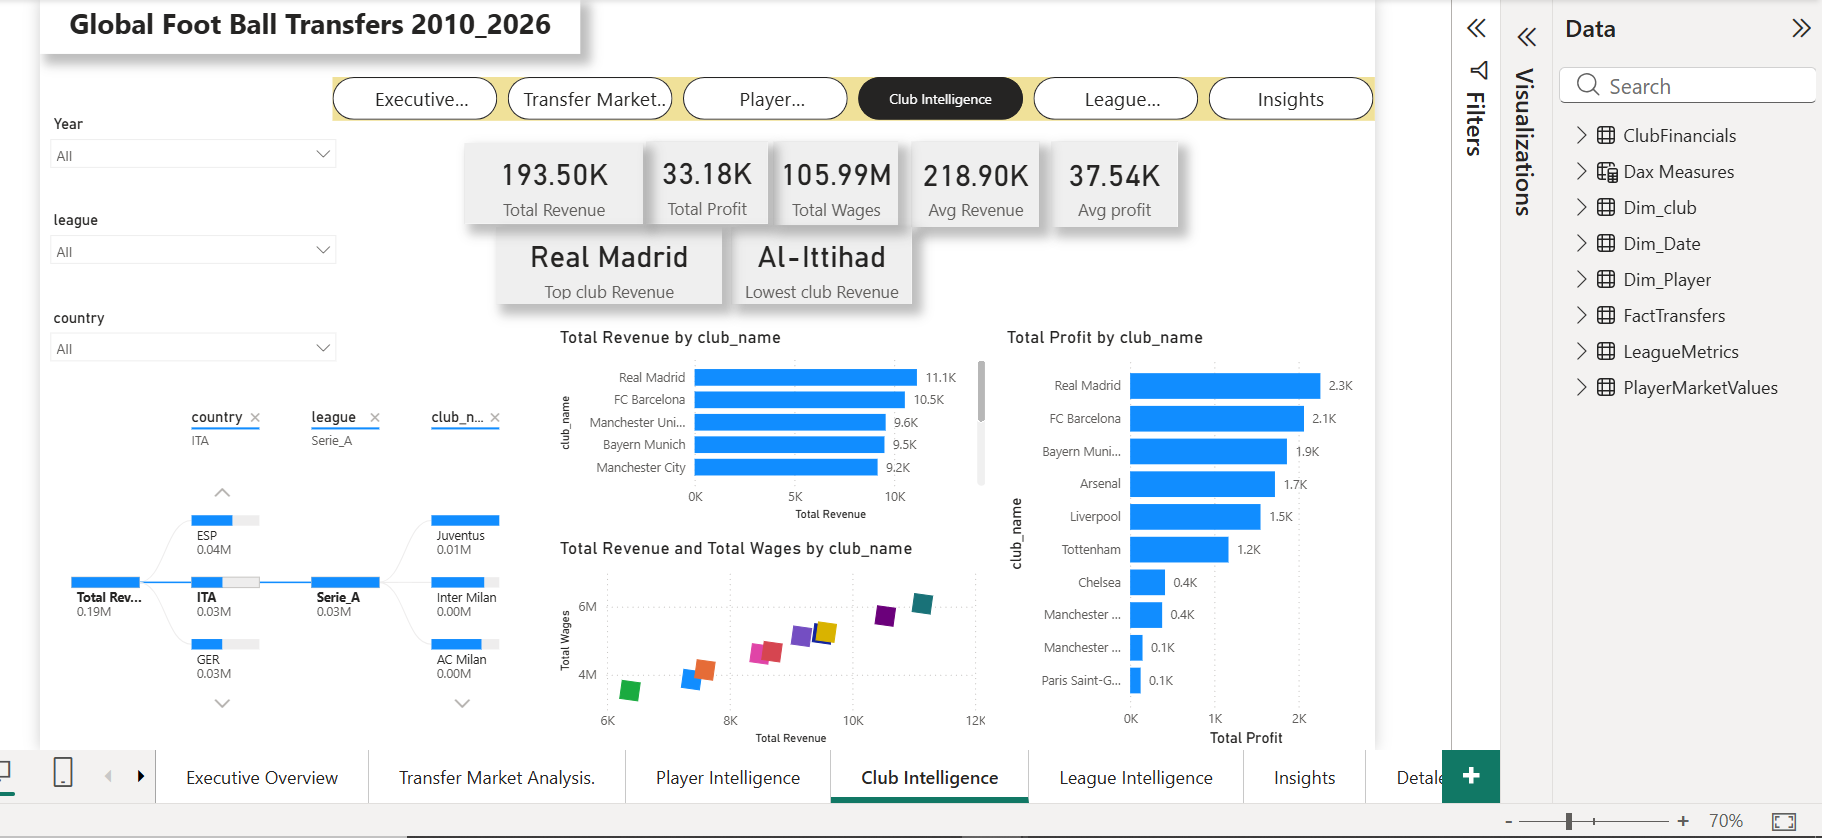

The page's visual inventory and layout, read from the dashboard file:
{"tool":"powerbi","page":{"name":"Club Intelligence","canvas":[1280,720],"ordinal":3},"visuals":[{"type":"card","fields":{"Values":["Dax Measures.Avg profit"]},"box":[958.5,112,122.7,83.3],"z":0},{"type":"card","fields":{"Values":["Dax Measures.Avg Revenue"]},"box":[816.2,110.5,122.7,83.3],"z":1000},{"type":"card","fields":{"Values":["Dax Measures.Total Wages"]},"box":[679.9,109,119.6,83.3],"z":2000},{"type":"card","fields":{"Values":["Dax Measures.Total Revenue"]},"box":[398.2,106,128.7,83.3],"z":3000},{"type":"card","fields":{"Values":["Dax Measures.Total Profit"]},"box":[546.6,107.5,116.6,83.3],"z":4000},{"type":"barChart","fields":{"Y":["Dax Measures.Total Revenue"],"Category":["Dim_club.club_name"]},"box":[493.6,313.4,417.9,190.8],"z":5000},{"type":"card","fields":{"Values":["Dax Measures.Top club Revenue"]},"box":[463.4,207.4,216.5,74.2],"z":6000},{"type":"card","fields":{"Values":["Dax Measures.Lowest club Revenue"]},"box":[690.5,207.4,172.6,74.2],"z":7000},{"type":"barChart","fields":{"Category":["Dim_club.club_name"],"Y":["Dax Measures.Total Profit"]},"box":[922.1,516.3,357.4,202.9],"z":8000},{"type":"scatterChart","fields":{"X":["Dax Measures.Total Revenue"],"Y":["Dax Measures.Total Wages"],"Category":["Dim_club.club_name"]},"box":[493.6,516.3,417.9,202.9],"z":9000},{"type":"decompositionTreeVisual","fields":{"Analyze":["Dax Measures.Total Revenue"],"ExplainBy":["Dim_club.country","Dim_club.league","Dim_club.club_name"]},"box":[0,516.3,483,202.9],"z":10000},{"type":"slicer","fields":{"Values":["Dim_Date.Full_date.Variation.Date Hierarchy.Year"]},"box":[0,106,293.8,83.3],"z":11000},{"type":"slicer","fields":{"Values":["Dim_club.league"]},"box":[0,198.4,293.8,83.3],"z":12000},{"type":"slicer","fields":{"Values":["Dim_club.country"]},"box":[0,292.2,293.8,83.3],"z":13000},{"type":"textbox","box":[478.5,0,369.5,87.8],"z":13001}]}

Visuals, with their boxes on the page's 1280x720 design canvas (x1, y1, x2, y2). These are canvas units, not pixel positions in the 1822x838 screenshot, which may show the page scaled, cropped or inside an application window:
card - Dax Measures.Avg profit: crop(958, 112, 1081, 195)
card - Dax Measures.Avg Revenue: crop(816, 110, 939, 194)
card - Dax Measures.Total Wages: crop(680, 109, 800, 192)
card - Dax Measures.Total Revenue: crop(398, 106, 527, 189)
card - Dax Measures.Total Profit: crop(547, 108, 663, 191)
barChart - Dax Measures.Total Revenue x Dim_club.club_name: crop(494, 313, 912, 504)
card - Dax Measures.Top club Revenue: crop(463, 207, 680, 282)
card - Dax Measures.Lowest club Revenue: crop(690, 207, 863, 282)
barChart - Dim_club.club_name x Dax Measures.Total Profit: crop(922, 516, 1280, 719)
scatterChart - Dax Measures.Total Revenue x Dax Measures.Total Wages: crop(494, 516, 912, 719)
decompositionTreeVisual - Dax Measures.Total Revenue x Dim_club.country: crop(0, 516, 483, 719)
slicer - Dim_Date.Full_date.Variation.Date Hierarchy.Year: crop(0, 106, 294, 189)
slicer - Dim_club.league: crop(0, 198, 294, 282)
slicer - Dim_club.country: crop(0, 292, 294, 376)
textbox: crop(478, 0, 848, 88)
